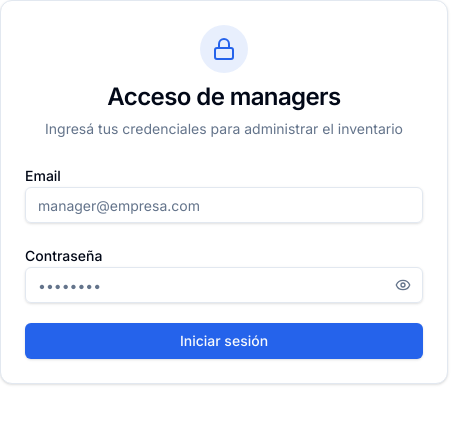
Test: LoginForm › rejects a malformed email
The image size is (465, 428).
Type "no-es-un-email" into the field labelled "Email" at (224, 205), box [25,187,423,223]
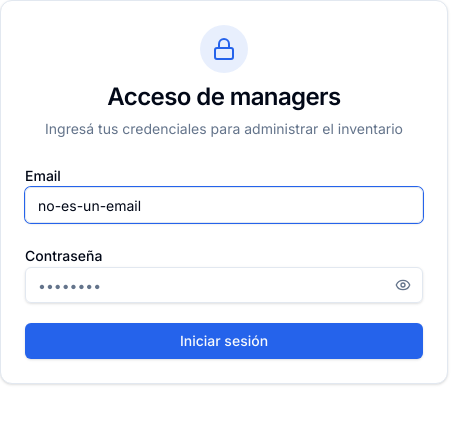
Type "secreta123" into the password field labelled "Contraseña" at (224, 285), box [25,267,423,303]
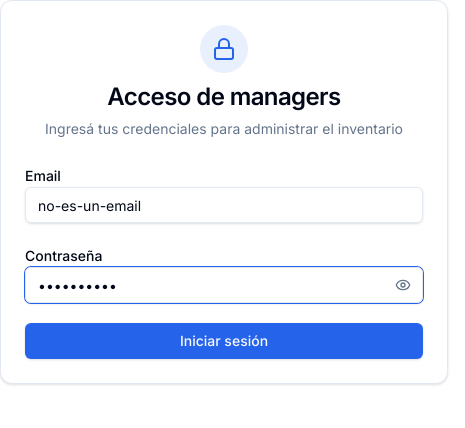
Click the button "Iniciar sesión" at (224, 341), box [25,323,423,359]
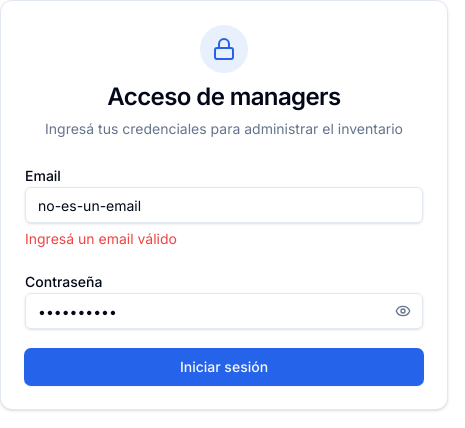
Expected: the text with test id "email-error" reads "Ingresá un email válido", [25,230,177,247]
